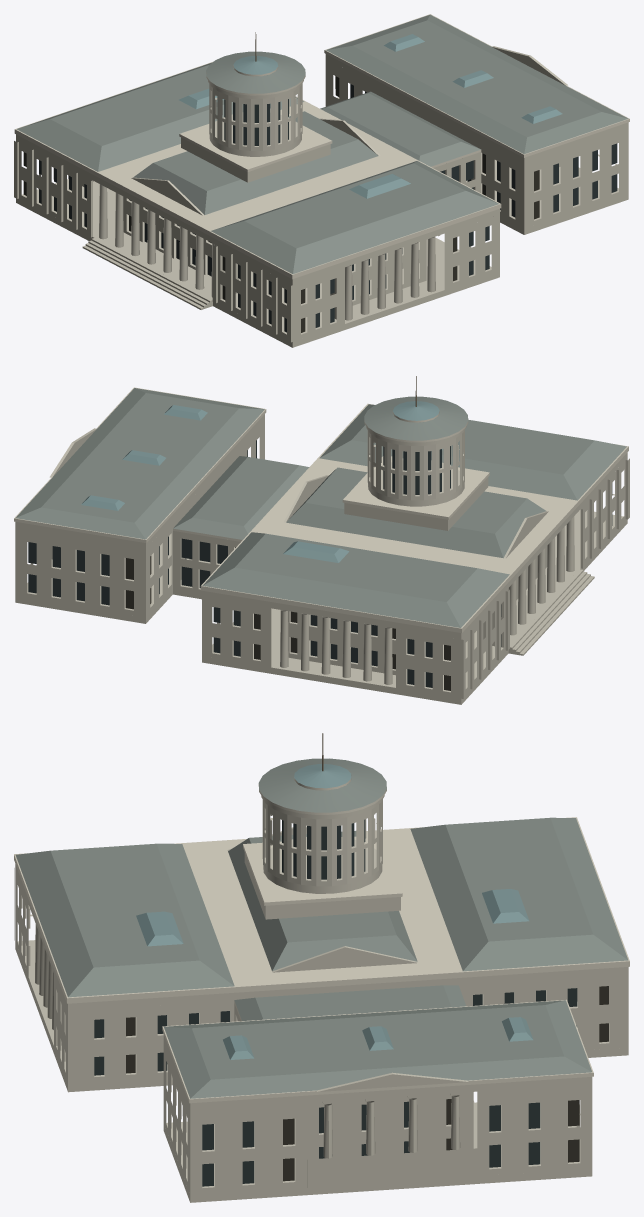
The model's file is ohio-statehouse-far.glb.
3 views of the same model, one above another, from view 1: azimuth 30°, elevation 25°; view 2: azimuth 150°, elevation 25°; view 3: azimuth 270°, elevation 25° (orthographic). The views are drawn at different scales.
Visible parts, largest first — view 1: ohio-statehouse-0-roof, ohio-statehouse-0-stone, ohio-statehouse-0-trim, ohio-statehouse-0-glass, ohio-statehouse-0-skylight, ohio-statehouse-0-light; view 2: ohio-statehouse-0-roof, ohio-statehouse-0-stone, ohio-statehouse-0-trim, ohio-statehouse-0-glass, ohio-statehouse-0-skylight, ohio-statehouse-0-light; view 3: ohio-statehouse-0-roof, ohio-statehouse-0-stone, ohio-statehouse-0-trim, ohio-statehouse-0-glass, ohio-statehouse-0-skylight, ohio-statehouse-0-light.
Boxes of the visible parts, x1=… form: ohio-statehouse-0-roof: x1=16, y1=14, x2=628, y2=273; ohio-statehouse-0-stone: x1=14, y1=46, x2=628, y2=347; ohio-statehouse-0-trim: x1=14, y1=14, x2=629, y2=279; ohio-statehouse-0-glass: x1=39, y1=84, x2=617, y2=332; ohio-statehouse-0-skylight: x1=179, y1=34, x2=562, y2=198; ohio-statehouse-0-light: x1=23, y1=76, x2=539, y2=332; ohio-statehouse-0-roof: x1=15, y1=388, x2=626, y2=627; ohio-statehouse-0-stone: x1=15, y1=414, x2=629, y2=704; ohio-statehouse-0-trim: x1=14, y1=387, x2=628, y2=632; ohio-statehouse-0-glass: x1=28, y1=440, x2=612, y2=687; ohio-statehouse-0-skylight: x1=81, y1=401, x2=442, y2=562; ohio-statehouse-0-light: x1=125, y1=547, x2=450, y2=690; ohio-statehouse-0-roof: x1=15, y1=758, x2=628, y2=1098; ohio-statehouse-0-stone: x1=14, y1=795, x2=628, y2=1202; ohio-statehouse-0-trim: x1=14, y1=774, x2=629, y2=1103; ohio-statehouse-0-glass: x1=94, y1=819, x2=577, y2=1186; ohio-statehouse-0-skylight: x1=136, y1=764, x2=533, y2=1059; ohio-statehouse-0-light: x1=126, y1=986, x2=608, y2=1181.
Bounding box in the file's own units: 113 × 48.16 × 100.
